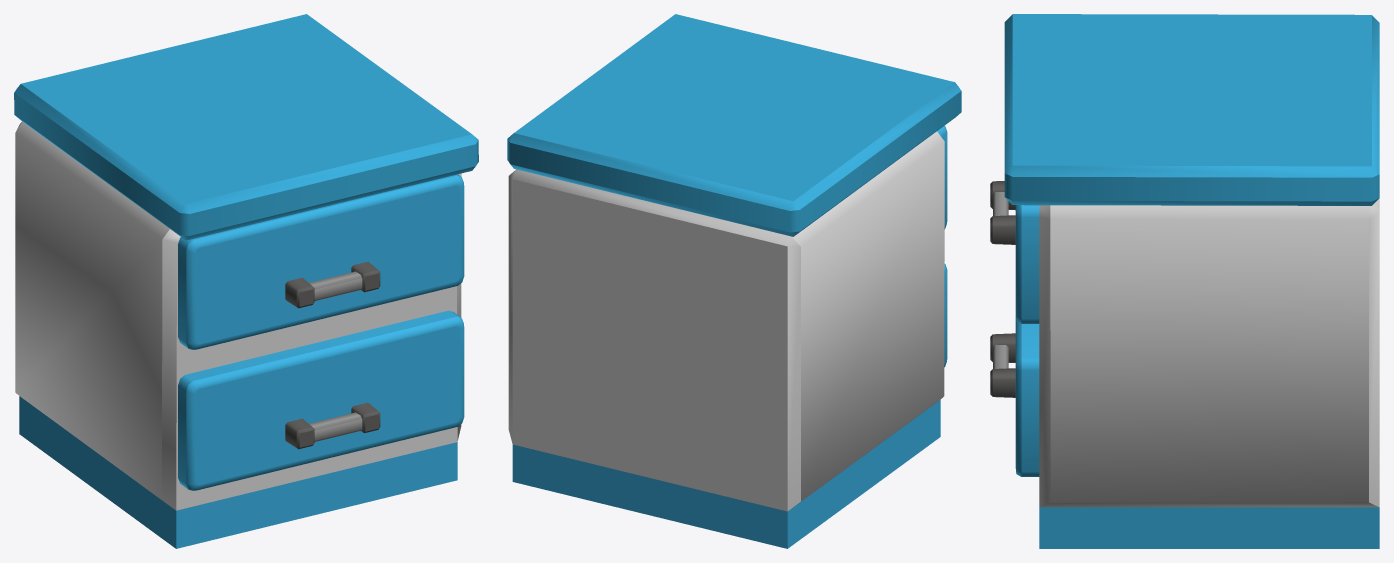
File: Furnit_H_6_H.glb
3 views of the same model, side by side, from view 1: azimuth 30°, elevation 25°; view 2: azimuth 150°, elevation 25°; view 3: azimuth 270°, elevation 25° (orthographic). The views are drawn at different scales.
Parts seen in each view (by area): view 1: Furnit_H_6_H; view 2: Furnit_H_6_H; view 3: Furnit_H_6_H.
Boxes of the visible parts, box(x1,y1,x2,y2) form: Furnit_H_6_H: box(14, 14, 478, 548); Furnit_H_6_H: box(507, 14, 961, 548); Furnit_H_6_H: box(990, 14, 1379, 548).
Size of the model in its own units: 0.9 by 1.02 by 0.9348.
Materials: 1 (1 with a texture image).
